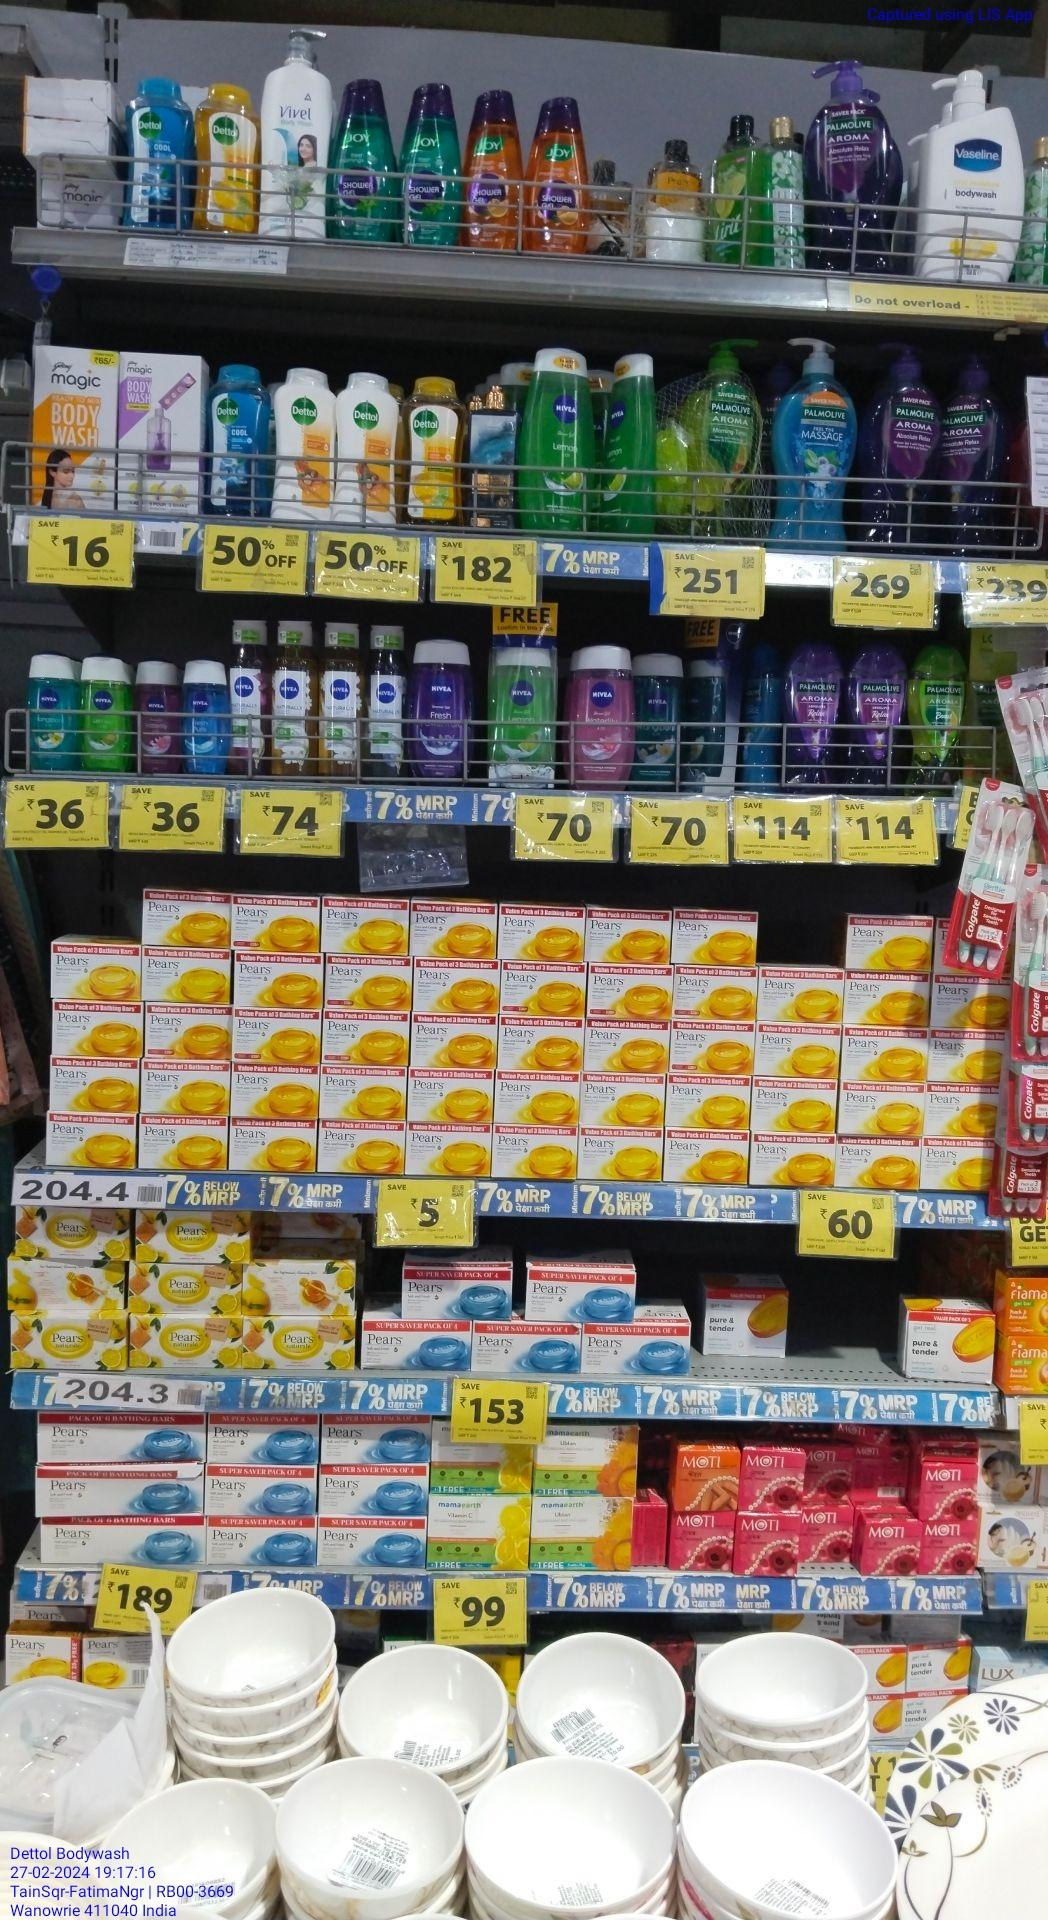Dettol_Bodywash_Cool: (128, 76, 195, 236), (208, 363, 270, 523)
Dettol_Bodywash_Refresh: (200, 74, 261, 239), (405, 373, 462, 532)
Dettol_Nourish_Body_Wash_250ML: (337, 370, 395, 529), (275, 366, 332, 526)
Joy_Shower_Gel_Mandarin_and_Lemongrass_250ML: (529, 92, 591, 255), (466, 86, 524, 254)
Joy_Shower_Gel_Mint_and_Eucalyptus_250ML: (403, 79, 463, 250), (332, 77, 394, 245)
Liril_Lime_and_Tea_Tree_Oil_Body_Wash_250ML: (710, 112, 754, 267)
Lux_Body_Wash_Skin_Detox_Freesia_Scent_and_Alove_Vera_245ML: (767, 112, 811, 271)
Nivea_Shower_Gel_Frangipani_and_Oil_250ML: (639, 648, 690, 794), (21, 652, 76, 775)
Nivea_Shower_Gel_Fresh_Powerfruit_250ML: (409, 635, 475, 787)
Nivea_Shower_Gel_Lemon_and_Oil_250ML: (527, 347, 591, 533), (601, 356, 650, 541), (80, 655, 126, 775)
Nivea_Shower_Gel_Waterlily_and_Oil_250ML: (570, 641, 635, 794), (129, 659, 183, 778)
Palmolive_Aroma_Morning_Tonic_Shower_Gel_250ML: (910, 643, 971, 801)
Palmolive_Aroma_Relax_250ML: (781, 639, 845, 797), (849, 640, 906, 799)
